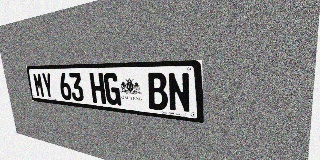3: (69, 73, 84, 102)
6: (58, 73, 72, 101)
B: (146, 73, 168, 111)
G: (103, 73, 121, 106)
H: (89, 73, 106, 104)
M: (33, 73, 45, 98)
N: (167, 73, 191, 113)
Y: (41, 73, 54, 99)
